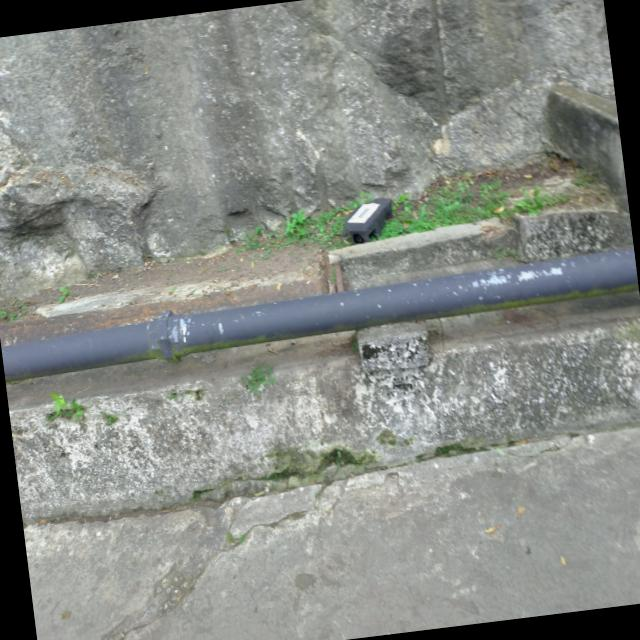gas: (0, 247, 638, 378)
